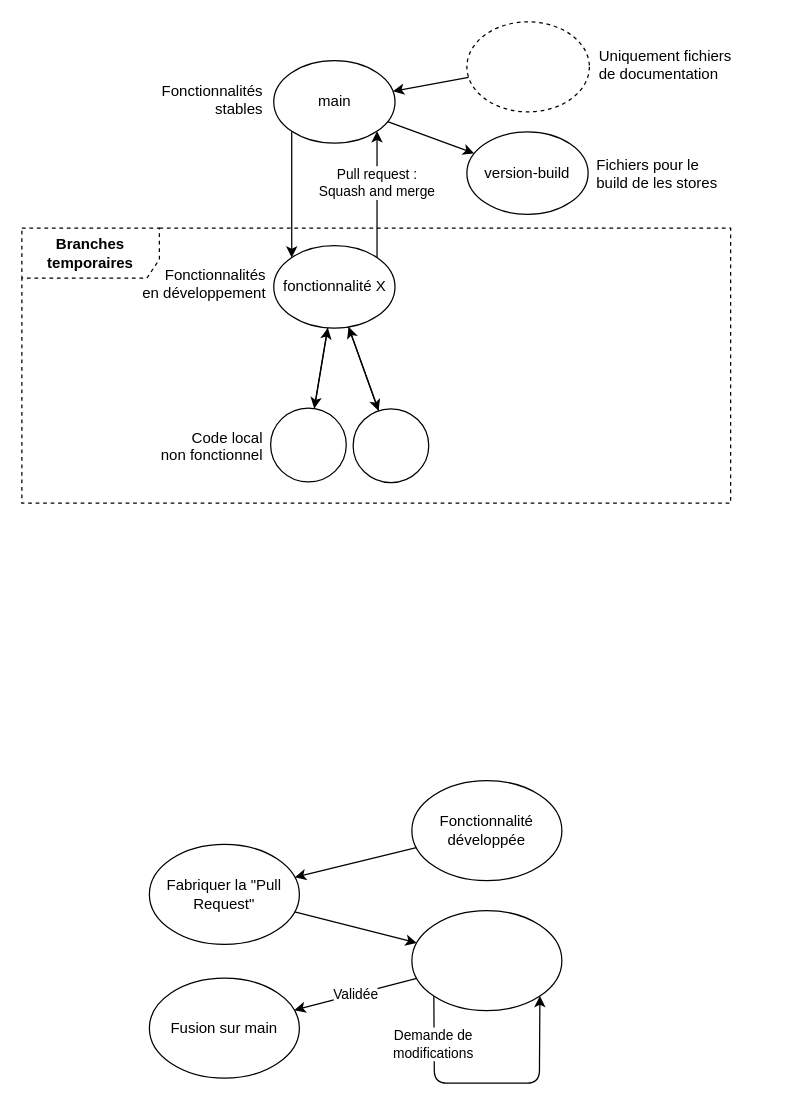
Some shapes in this 801 by 1115 pixel diagram are drawn without their labels. The shapes that lost their labels are listed below. From the top down, each one's centre as x and y in pixels, then its label:
pixel 527 66: documentation
pixel 307 444: dev 1
pixel 390 445: dev 2
pixel 486 960: Modifier la fonctionnalité pour l'adapter aux retours
